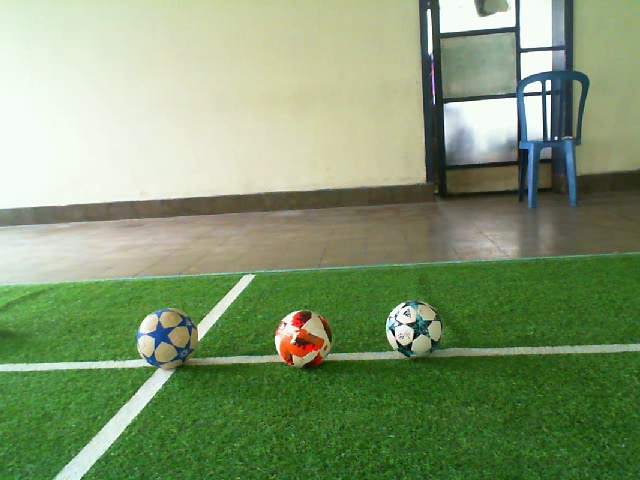ball: (134, 305, 200, 371), (272, 308, 335, 370), (383, 298, 444, 362)
